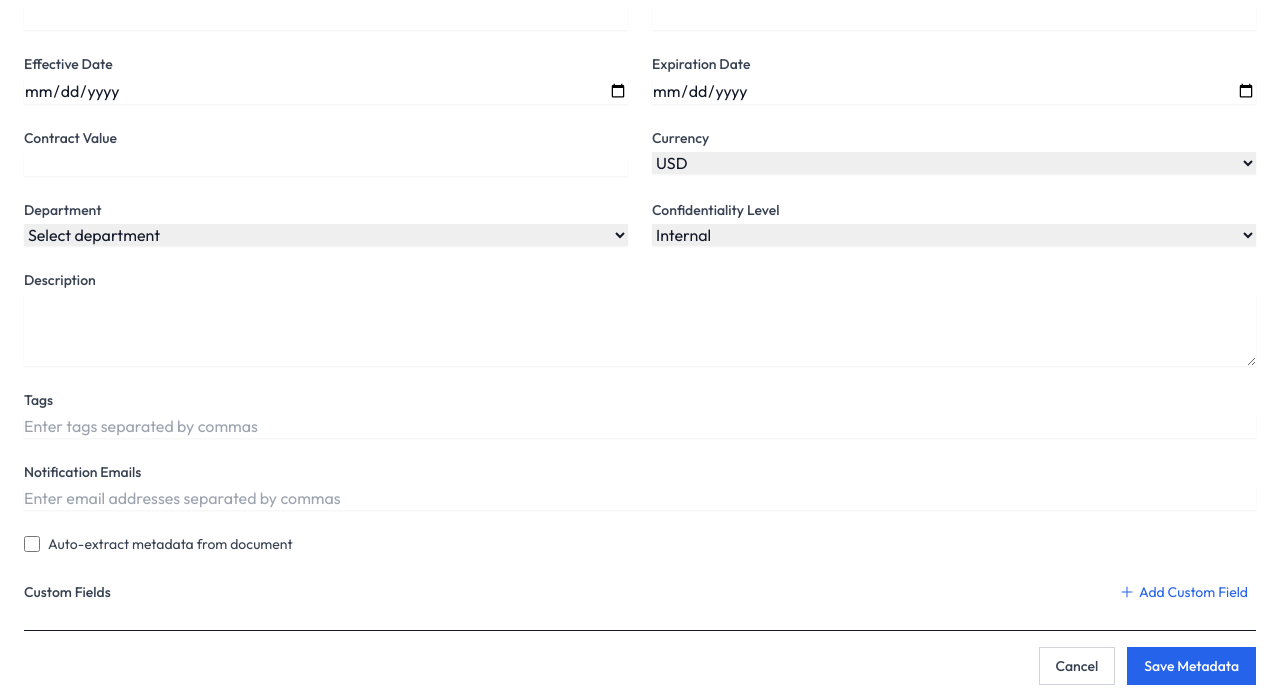
Test: MetadataForm › Form Validation › should require title field
(page scrolled)
Click the button "Save Metadata" at (1192, 666), box [1127, 647, 1256, 685]
(page scrolled)
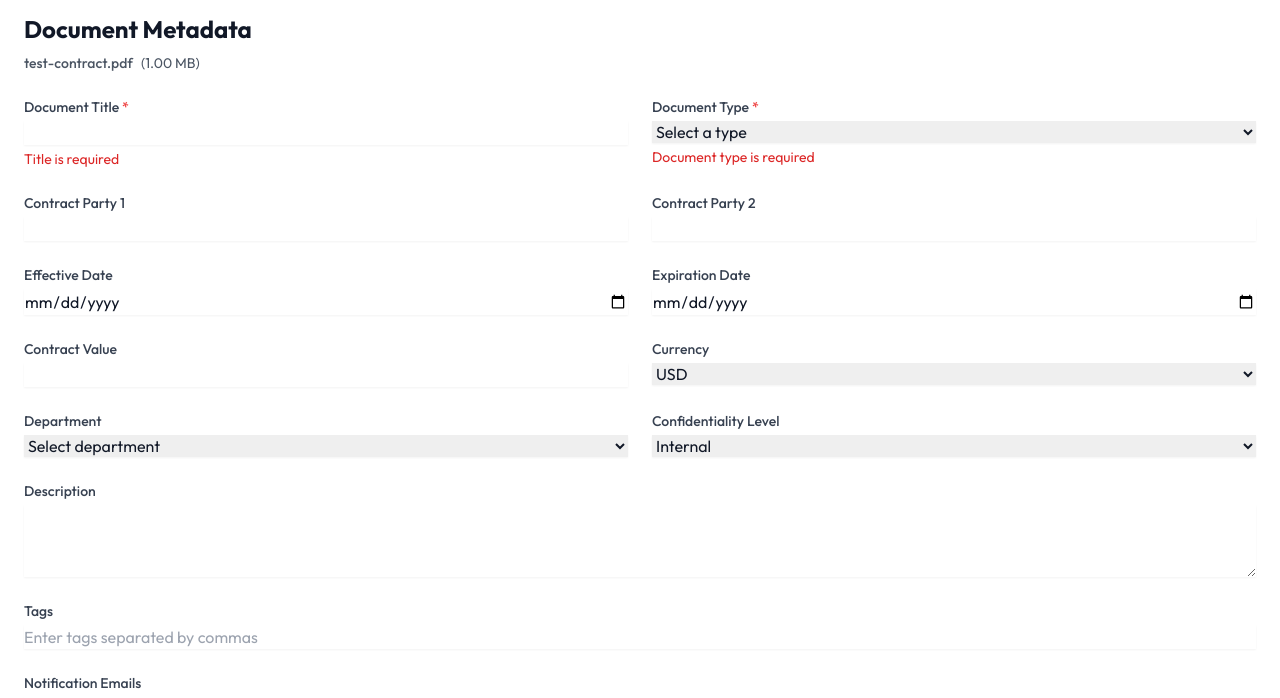
Now the text "Title is required" is shown, box [24, 150, 119, 168]
